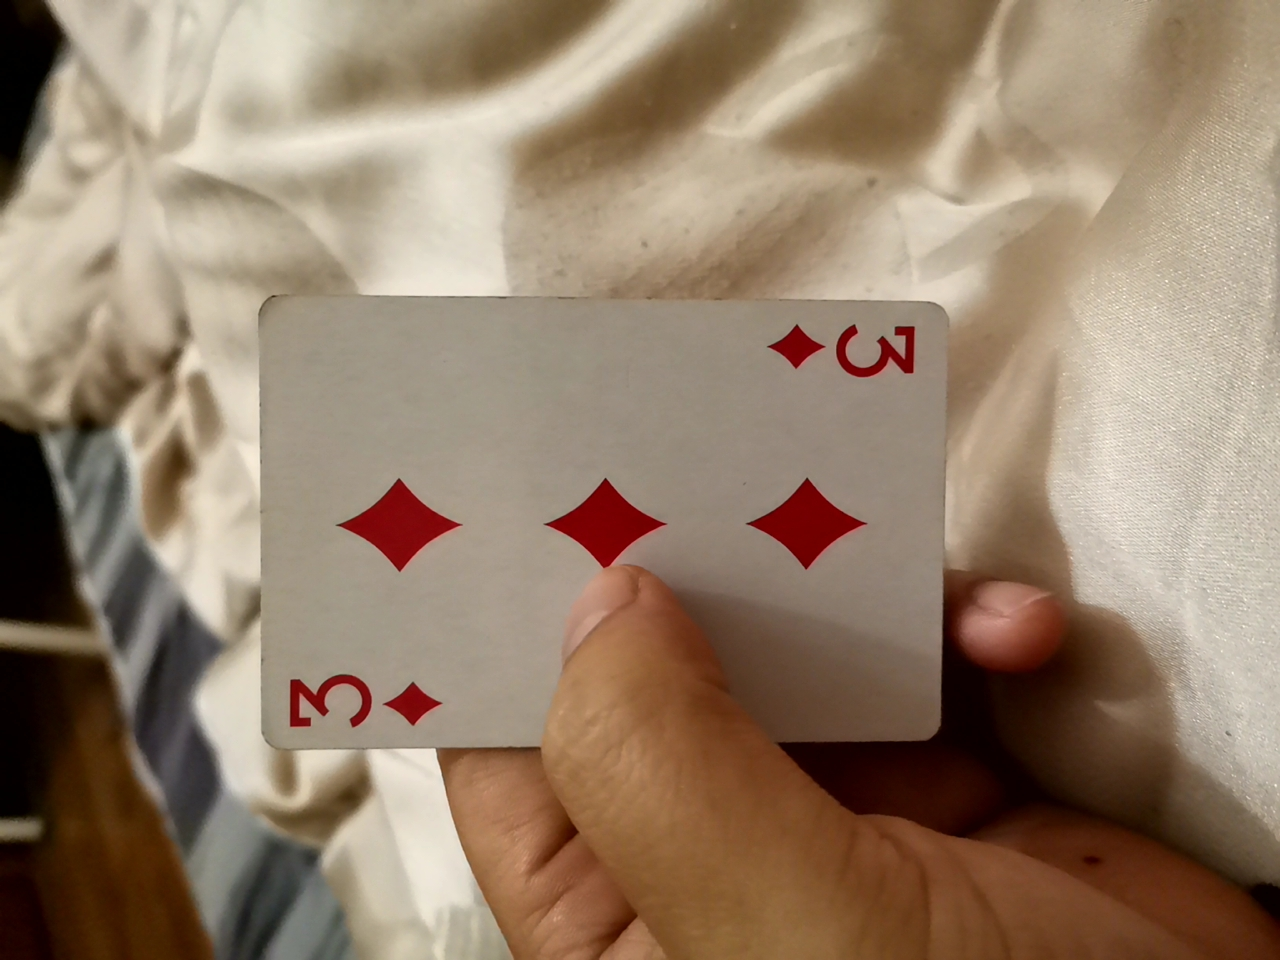fk 3: (233, 263, 965, 824)
